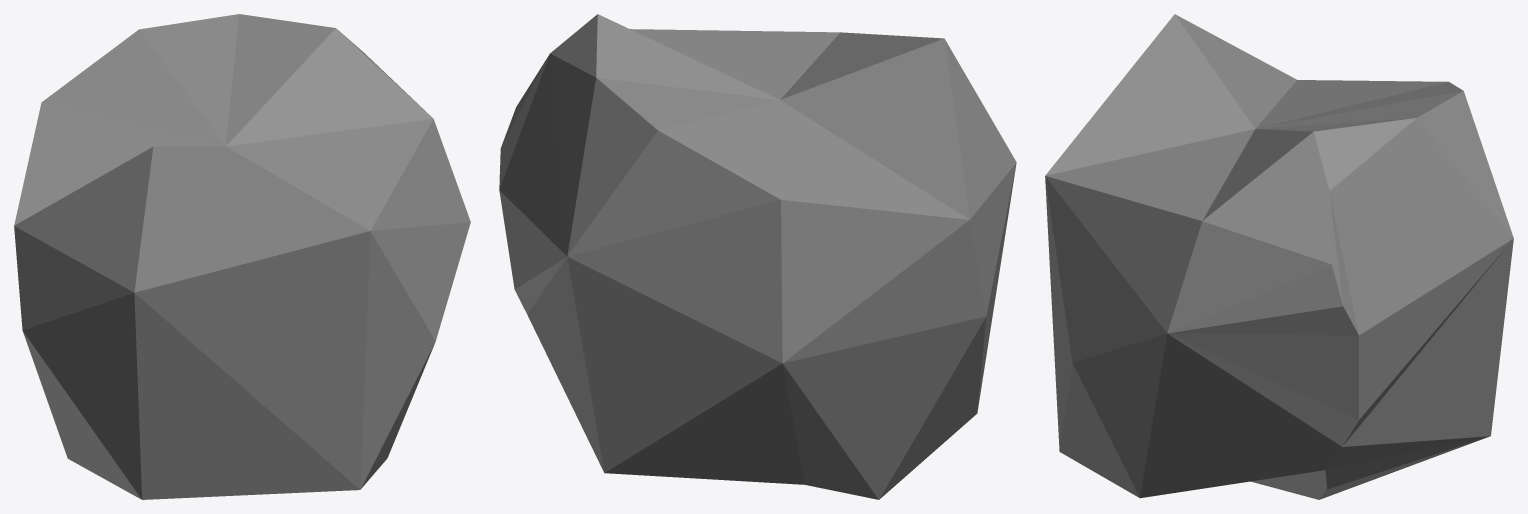
The model's file is Boulder 2.fbx.
3 views of the same model, side by side, from view 1: azimuth 30°, elevation 25°; view 2: azimuth 150°, elevation 25°; view 3: azimuth 270°, elevation 25° (orthographic). The views are drawn at different scales.
Visible parts, largest first — view 1: Boulder_2; view 2: Boulder_2; view 3: Boulder_2.
Boxes of the visible parts, x1,y1,x2,y2 form: Boulder_2: [14, 14, 470, 499]; Boulder_2: [499, 14, 1016, 499]; Boulder_2: [1045, 14, 1513, 499].
Bounding box in the file's own units: 247 × 216 × 234.
1 material, 1 textured.
